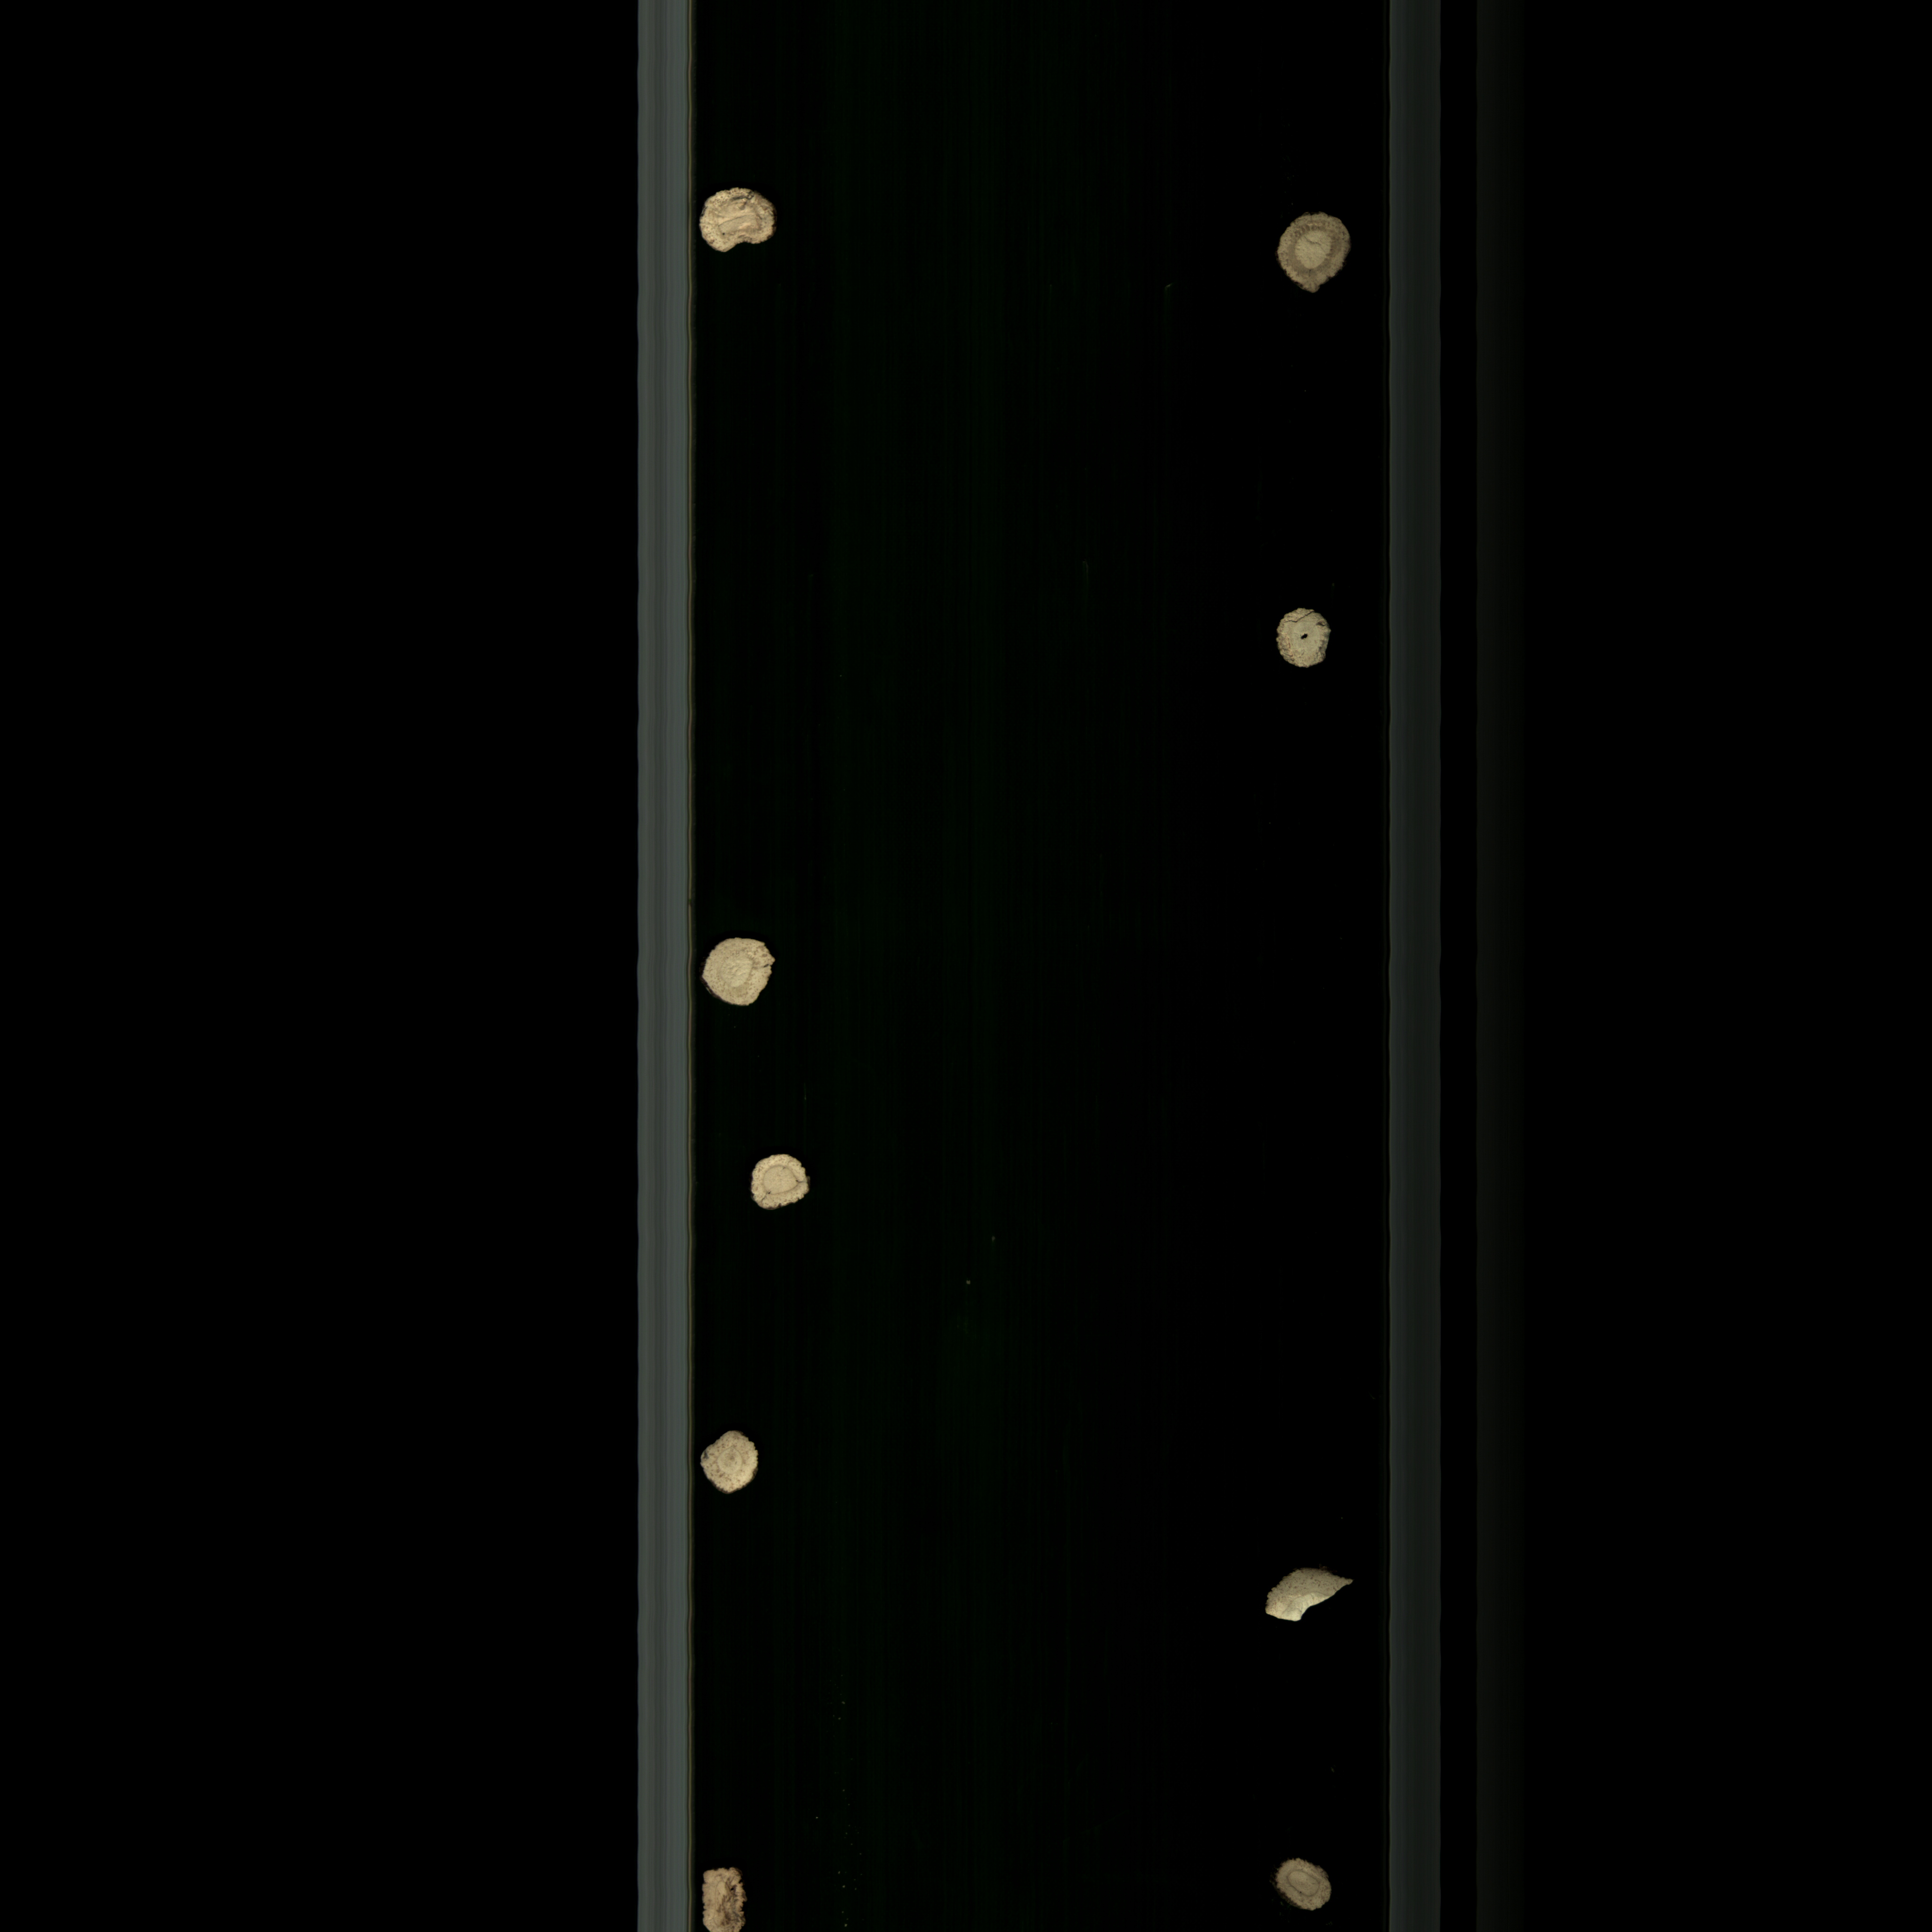debris: (1253, 1557, 1364, 1637)
distortion: (686, 170, 789, 271), (686, 170, 789, 269)
hole: (1269, 596, 1341, 690)
moldy: (1267, 198, 1353, 306), (694, 1859, 784, 1932), (1267, 1849, 1341, 1918)
